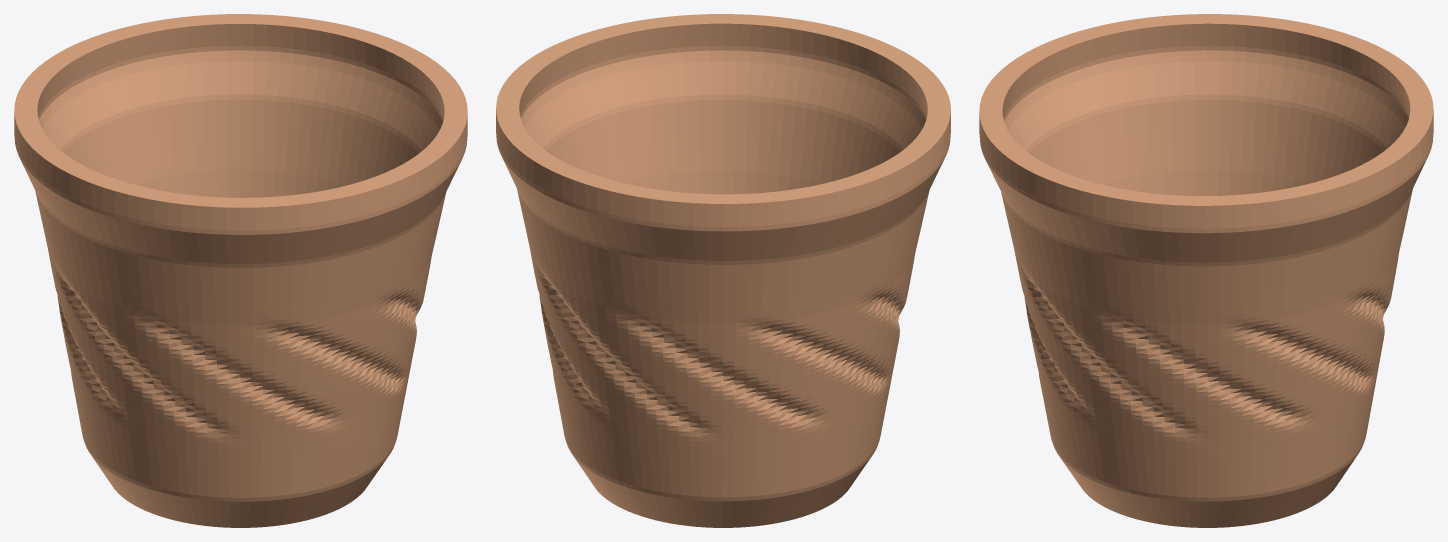
Rendered from Pot_09_Etched_Wave.glb.
3 renders of one model, left to right at view 1: azimuth 30°, elevation 25°; view 2: azimuth 150°, elevation 25°; view 3: azimuth 270°, elevation 25°, orthographic.
Visible parts, largest first — view 1: Pot_09_Etched_Wave; view 2: Pot_09_Etched_Wave; view 3: Pot_09_Etched_Wave.
Boxes of the visible parts, bbox=[...] form: Pot_09_Etched_Wave: bbox=[14, 14, 467, 527]; Pot_09_Etched_Wave: bbox=[496, 14, 950, 527]; Pot_09_Etched_Wave: bbox=[979, 14, 1433, 527].
Size of the model in its own units: 0.216 by 0.191 by 0.2161.
